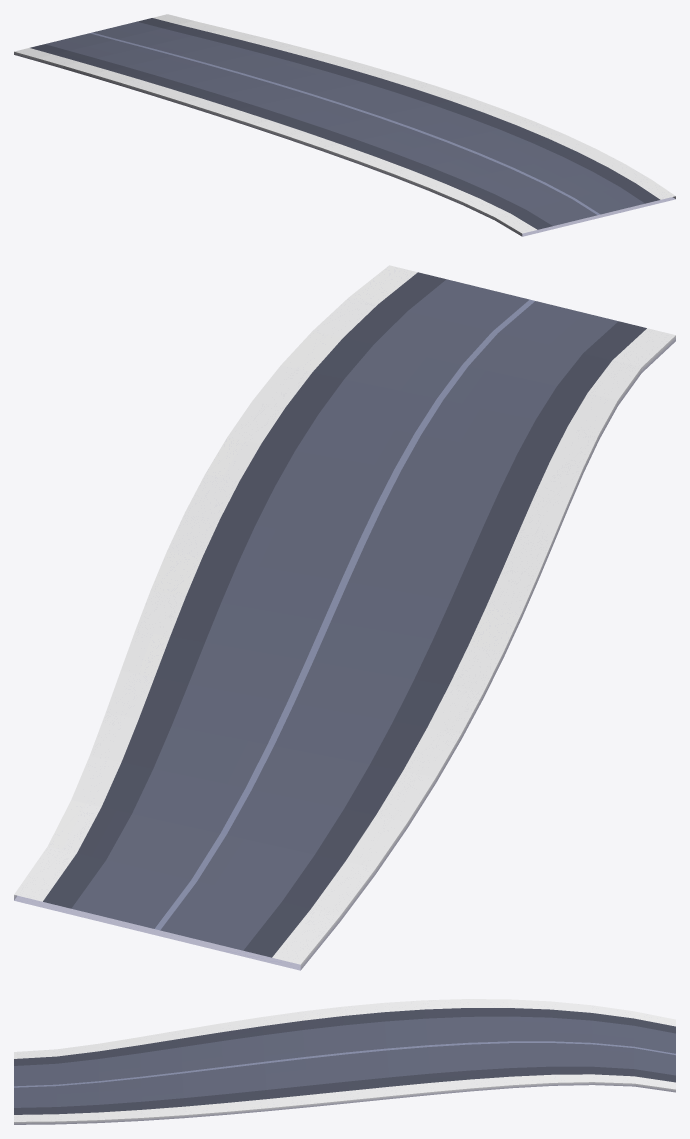
File: road-Chicane-Flat-BiSlopeDown-Down1-Left1-Size4.glb
3 views of the same model, one above another, from view 1: azimuth 30°, elevation 25°; view 2: azimuth 150°, elevation 25°; view 3: azimuth 270°, elevation 25° (orthographic). The views are drawn at different scales.
Parts seen in each view (by area): view 1: road-Chicane-Flat-BiSlopeDown-Down1-Left1-Size4; view 2: road-Chicane-Flat-BiSlopeDown-Down1-Left1-Size4; view 3: road-Chicane-Flat-BiSlopeDown-Down1-Left1-Size4.
Boxes of the visible parts, x1,y1,x2,y2 form: road-Chicane-Flat-BiSlopeDown-Down1-Left1-Size4: (14, 14, 675, 236); road-Chicane-Flat-BiSlopeDown-Down1-Left1-Size4: (14, 265, 675, 970); road-Chicane-Flat-BiSlopeDown-Down1-Left1-Size4: (14, 999, 675, 1124).
Bounding box in the file's own units: 2 × 0.2993 × 4.
1 material, 1 textured.
